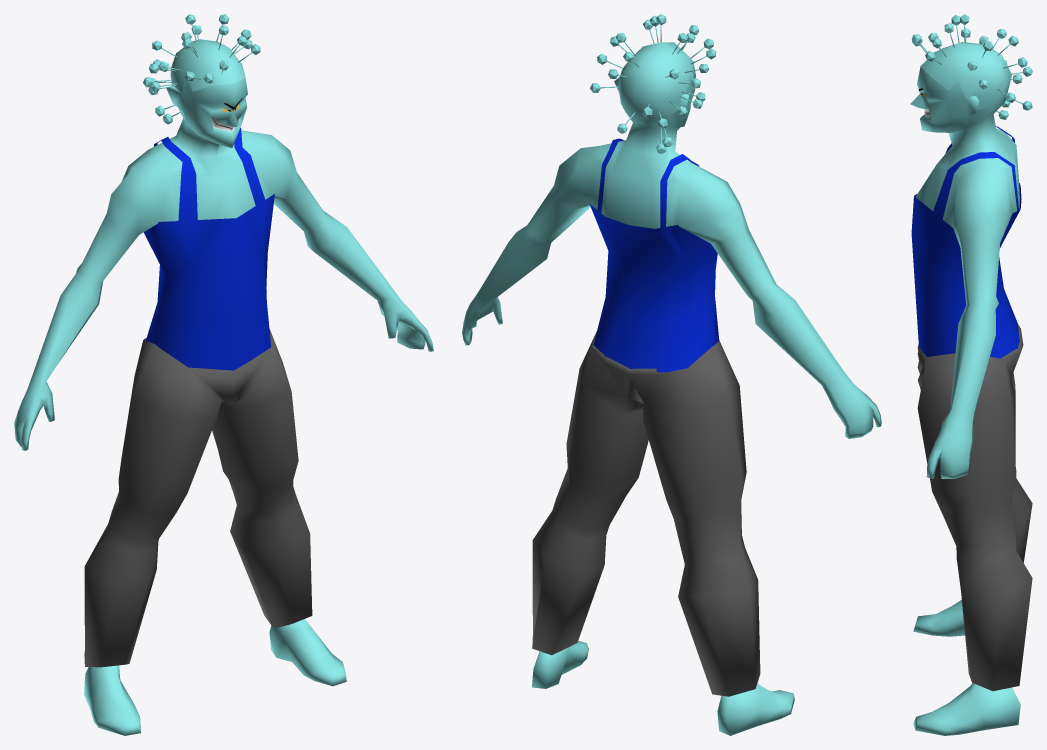
Rendered from VirusBoss.fbx.
3 views of the same model, side by side, from view 1: azimuth 30°, elevation 25°; view 2: azimuth 150°, elevation 25°; view 3: azimuth 270°, elevation 25° (orthographic). The views are drawn at different scales.
Parts seen in each view (by area): view 1: Body; view 2: Body; view 3: Body.
Boxes of the visible parts, box(x1,y1,x2,y2) form: Body: box(14, 14, 433, 735); Body: box(462, 14, 881, 735); Body: box(910, 14, 1032, 735).
Bounding box in the file's own units: 281 × 437 × 73.97.
